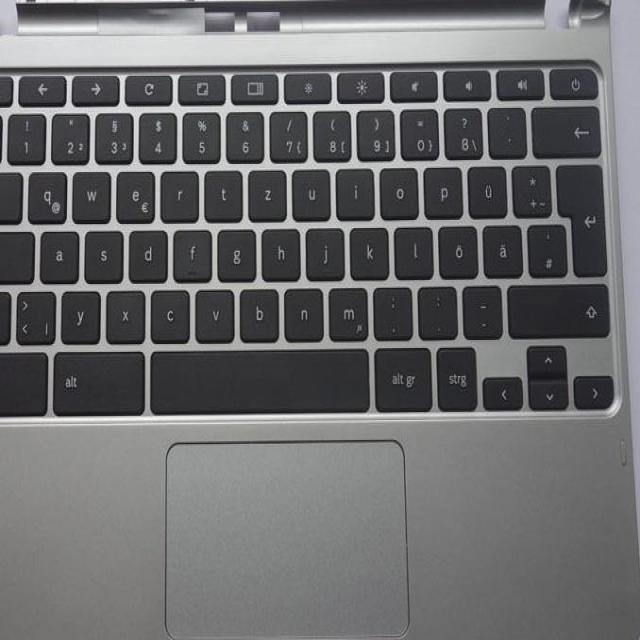0: (397, 103, 437, 156)
1: (4, 108, 43, 160)
2: (48, 107, 88, 160)
3: (92, 107, 131, 160)
4: (136, 107, 175, 159)
5: (179, 107, 220, 160)
6: (223, 107, 263, 159)
7: (266, 105, 306, 159)
8: (310, 105, 349, 159)
9: (353, 104, 393, 157)
a: (37, 225, 76, 280)
accent: (485, 102, 524, 154)
ae: (480, 220, 520, 273)
alt-left: (49, 346, 143, 414)
altgr-right: (370, 341, 430, 408)
b: (237, 283, 277, 337)
c: (147, 284, 188, 339)
caret: (0, 107, 20, 160)
comma: (369, 281, 411, 335)
d: (126, 224, 165, 279)
del: (529, 100, 599, 153)
e: (113, 165, 153, 219)
enter: (552, 157, 609, 276)
f: (170, 224, 209, 277)
g: (214, 223, 254, 277)
h: (259, 223, 298, 277)
hash: (524, 219, 564, 273)
i: (332, 163, 372, 215)
j: (303, 223, 343, 276)
k: (346, 221, 387, 276)
keyboard: (0, 56, 621, 425)
l: (392, 221, 431, 275)
less: (13, 290, 55, 346)
m: (325, 282, 365, 338)
minus: (459, 280, 500, 335)
n: (280, 283, 322, 337)
o: (377, 161, 416, 215)
oe: (435, 220, 476, 275)
p: (421, 161, 461, 215)
plus: (509, 159, 549, 213)
point: (414, 280, 456, 335)
q: (25, 165, 65, 220)
r: (158, 166, 196, 218)
s: (81, 225, 121, 279)
shift-left: (0, 285, 27, 342)
shift-lock: (0, 229, 38, 284)
shift-right: (503, 277, 608, 335)
space: (148, 344, 367, 411)
ss: (441, 103, 481, 155)
strg-left: (0, 347, 49, 416)
strg-right: (433, 341, 475, 408)
t: (202, 164, 241, 217)
tab: (0, 167, 31, 220)
u: (289, 163, 328, 217)
ue: (464, 160, 504, 213)
v: (193, 283, 232, 339)
w: (70, 165, 108, 219)
x: (103, 285, 143, 340)
y: (58, 285, 98, 340)
z: (246, 164, 284, 217)
